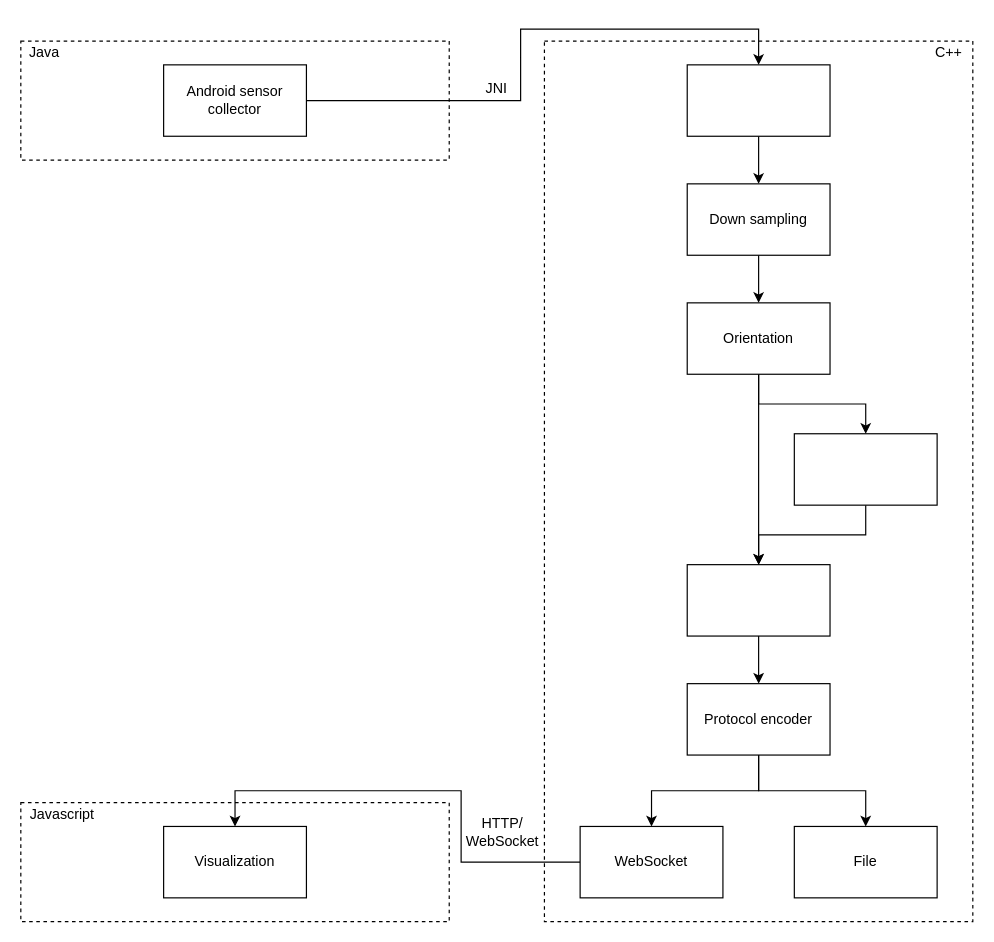
Some shapes in this 994 by 942 pixel diagram are drawn without their labels. Here are the shapes that lost their labels. From the top down, the centre of each, then its label:
At point 758,100: "Synchronization".
At point 865,469: "Total rotation".
At point 758,599: "Hard iron calibration".
